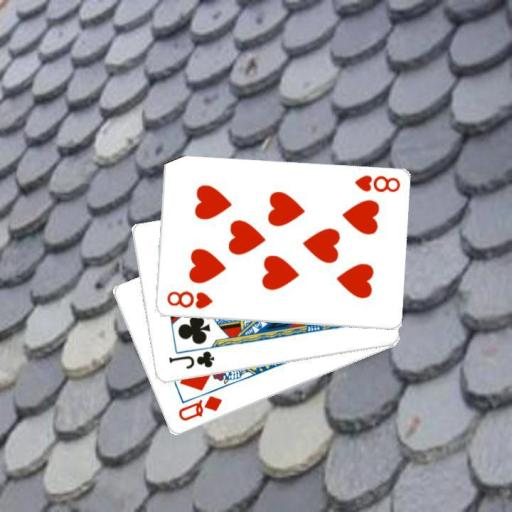8H: (164, 288, 214, 311), (351, 172, 401, 194)
JC: (165, 349, 215, 372)
QD: (175, 393, 224, 423)
